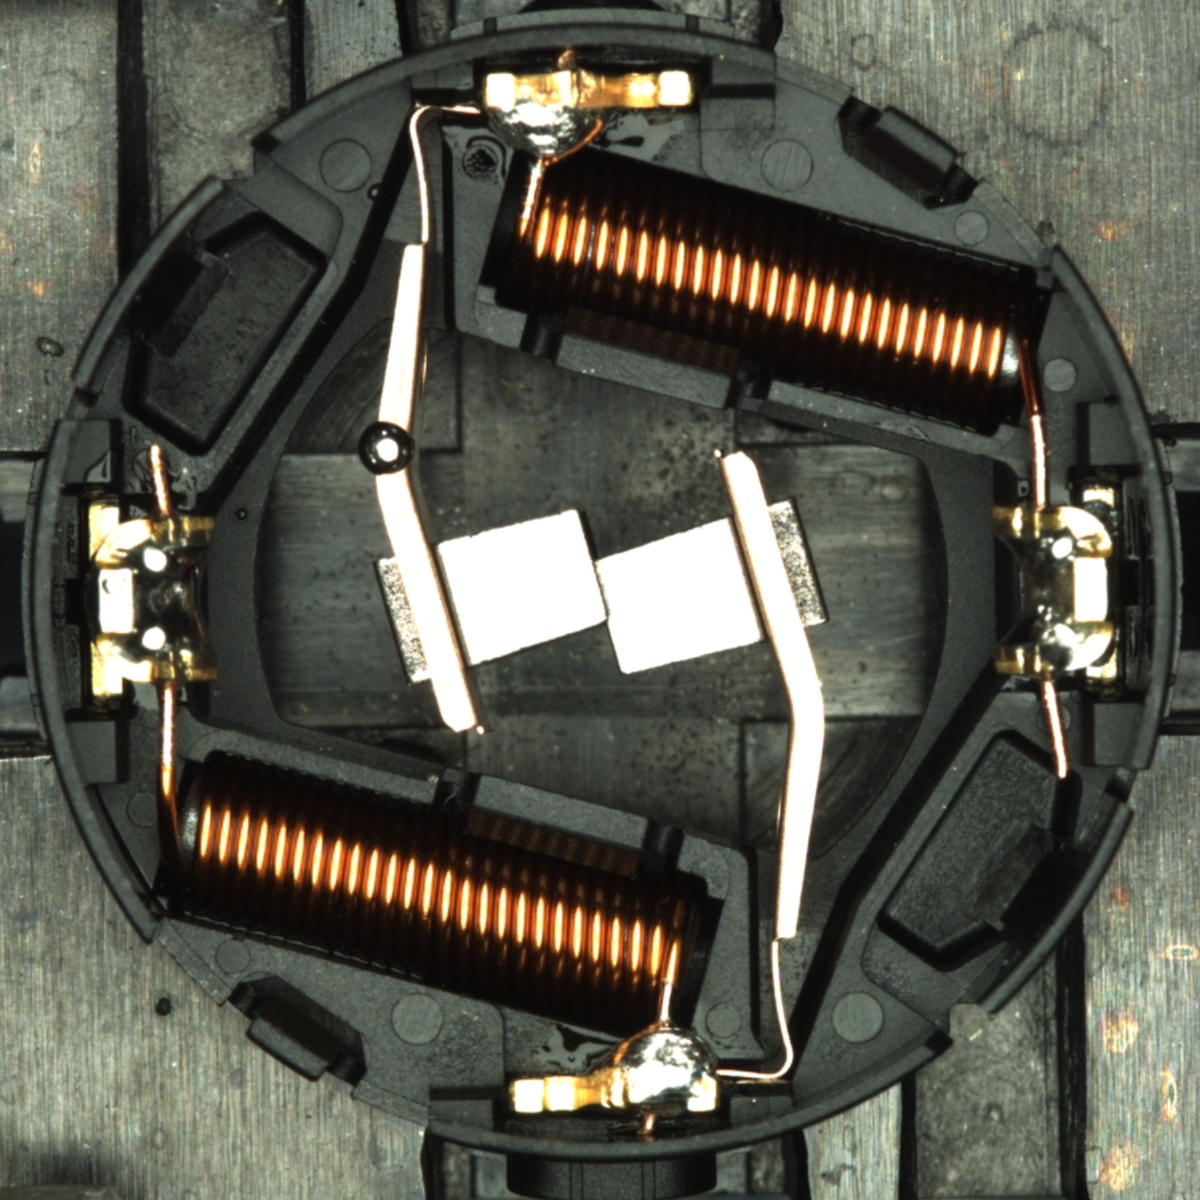1: (258, 55, 487, 279), (716, 953, 945, 1177)
2: (716, 55, 945, 279), (258, 953, 487, 1177)
3: (29, 279, 258, 503), (945, 729, 1175, 953)
4: (716, 729, 945, 953)
5: (487, 167, 716, 391), (487, 841, 716, 1065)
6: (716, 279, 945, 503), (258, 729, 487, 953)
7: (945, 279, 1175, 503), (29, 729, 258, 953)
chau_dien: (982, 486, 1123, 686), (82, 499, 222, 699)
hat_chi: (358, 421, 414, 476)
tay_choi: (482, 69, 697, 169), (509, 1020, 721, 1116)
thanh_de: (954, 787, 1142, 1031), (58, 164, 245, 404)
